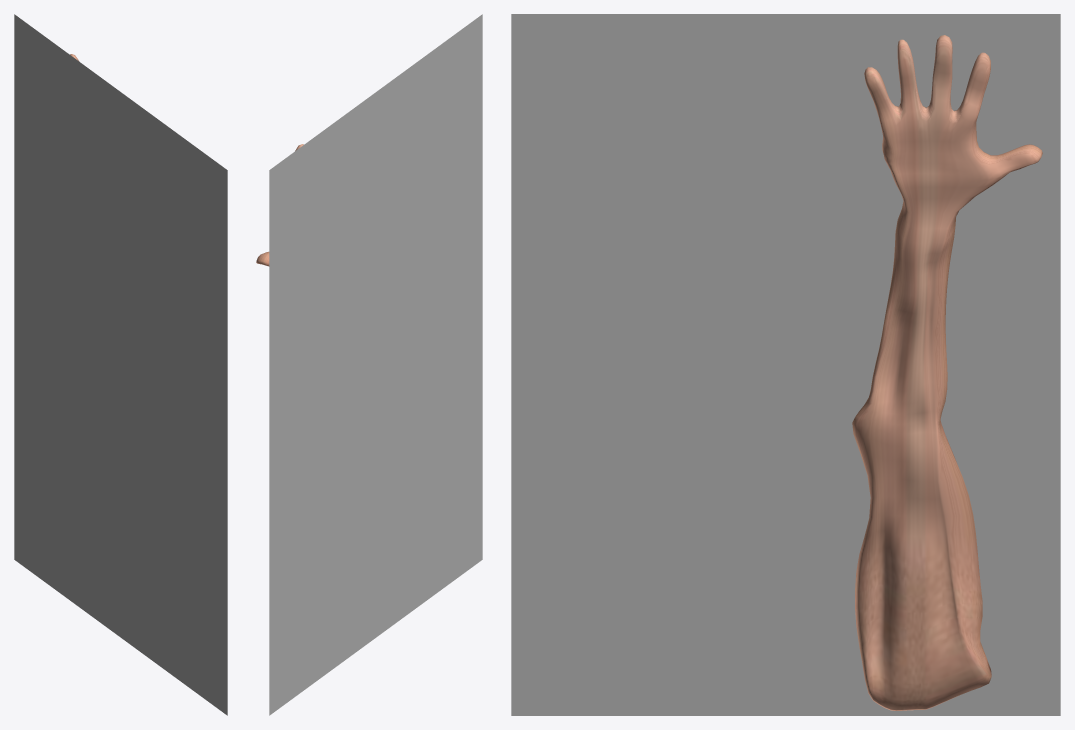
Rendered from Arm.fbx.
The picture shows the model from 3 angles, left to right: view 1: azimuth 30°, elevation 25°; view 2: azimuth 150°, elevation 25°; view 3: azimuth 270°, elevation 25°; orthographic projection. The views are drawn at different scales.
Parts seen in each view (by area): view 1: Plane; view 2: Plane; view 3: Plane, Cube.
Part boxes in pixels (x1,y1,x2,y2): Plane: (14,14,227,715); Plane: (269,14,482,715); Plane: (511,14,1060,715); Cube: (852,35,1042,710).
Bounding box in the file's own units: 58.98 × 1000 × 709.
